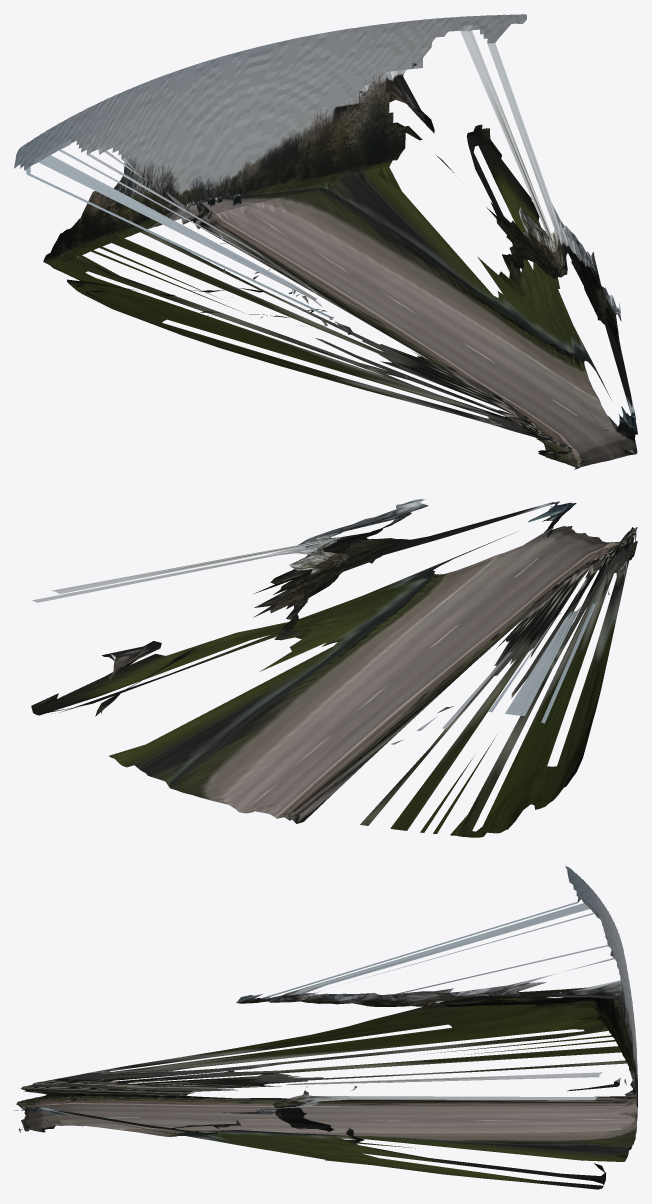
The picture shows the model from 3 angles, top to bottom: view 1: azimuth 30°, elevation 25°; view 2: azimuth 150°, elevation 25°; view 3: azimuth 270°, elevation 25°; orthographic projection. The views are drawn at different scales.
Parts seen in each view (by area): view 1: defaultobject; view 2: defaultobject; view 3: defaultobject.
Boxes of the visible parts, box(x1,y1,x2,y2) form: defaultobject: box(14, 14, 637, 469); defaultobject: box(31, 499, 637, 837); defaultobject: box(14, 866, 637, 1189).
Bounding box in the file's own units: 38.02 × 11.71 × 44.91.
1 material, 1 textured.
